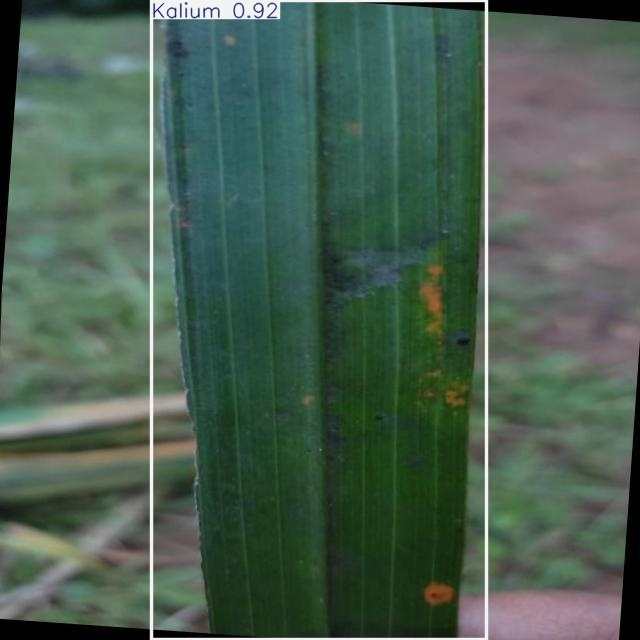Kalium: (151, 0, 487, 640)
